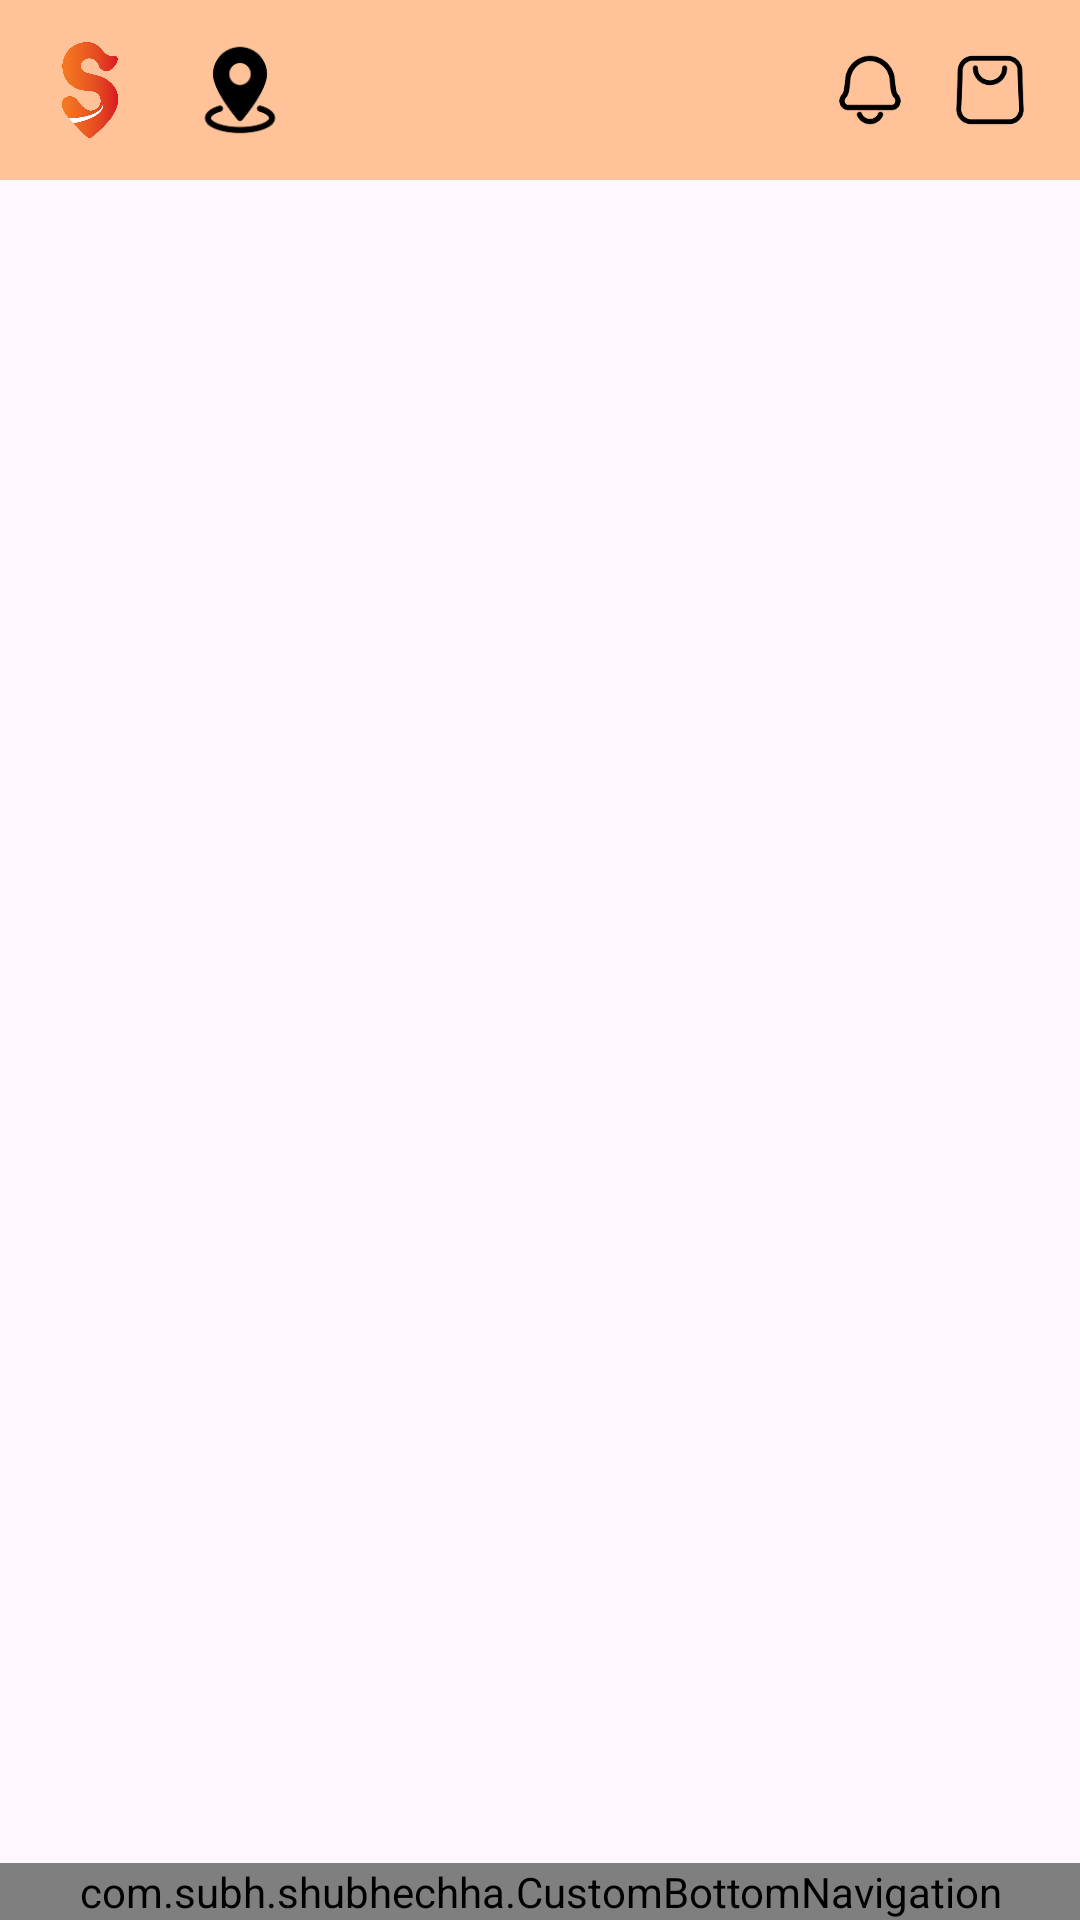

Where icons sit on this 1080 x 1920 app screen, as rect(x1, y1, x2, y2):
shub notification: rect(839, 55, 901, 125)
shub shopping: rect(956, 55, 1024, 125)
subh location: rect(204, 46, 276, 134)
